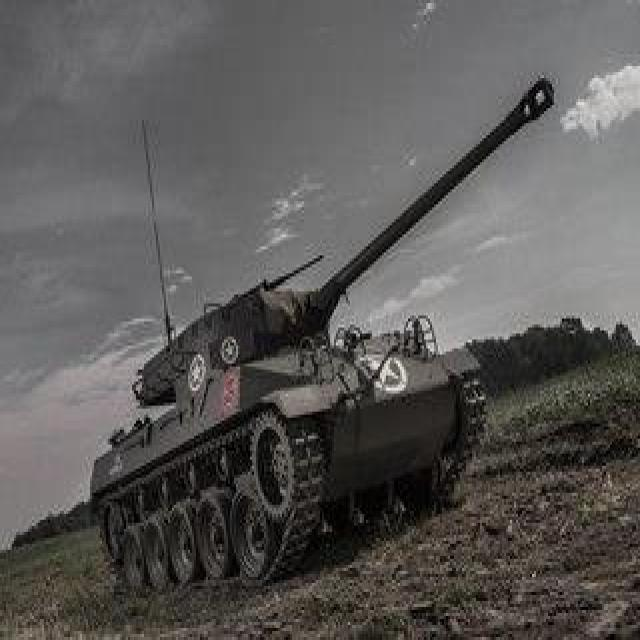Tanks: (97, 251, 487, 590)
